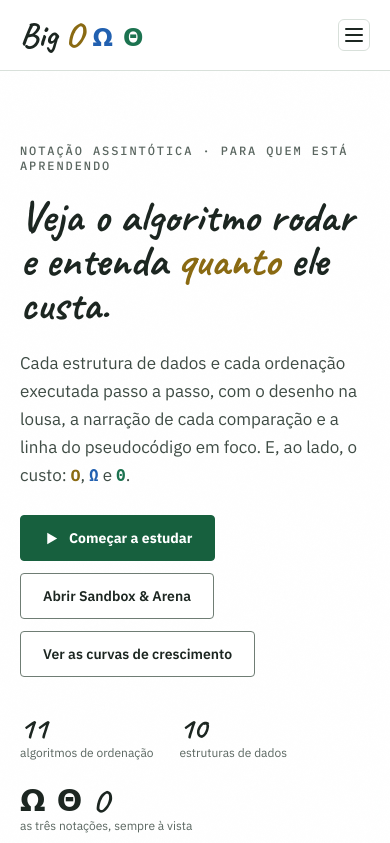
HomeComponent › deve alternar o menu móvel ao clicar no toggle
Click the button with class "mobile-menu-toggle" at (354, 35), box [338,19,370,51]
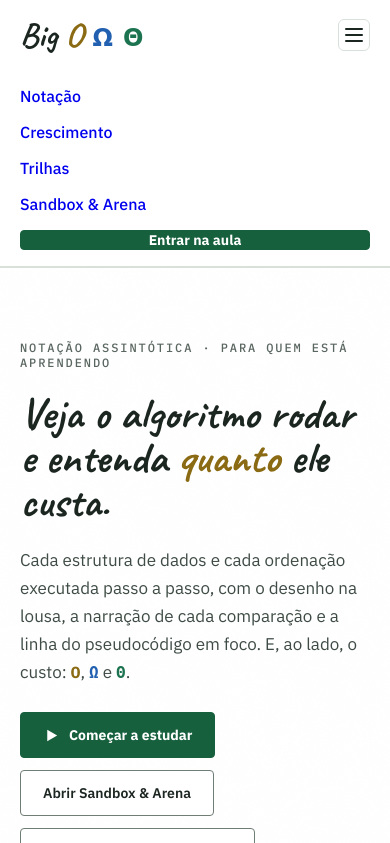
Now the navigation bar with id "mobile-nav-menu" is shown, box [0,70,389,267]
